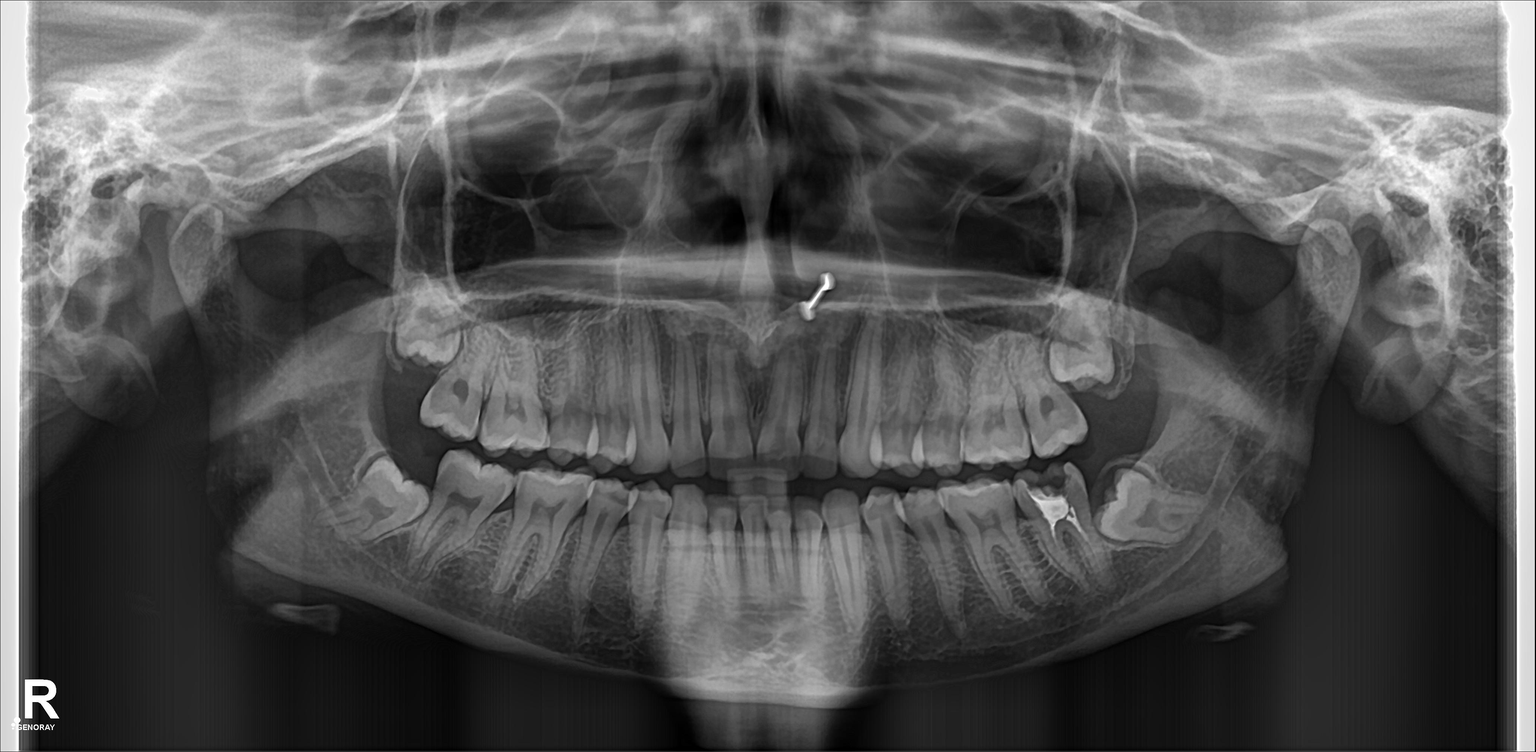Endodontically Treated Tooth: (1026, 477, 1107, 584)
Impacted Third Molar: (329, 456, 423, 544), (1039, 303, 1116, 384), (391, 285, 459, 365), (1108, 478, 1195, 538)
